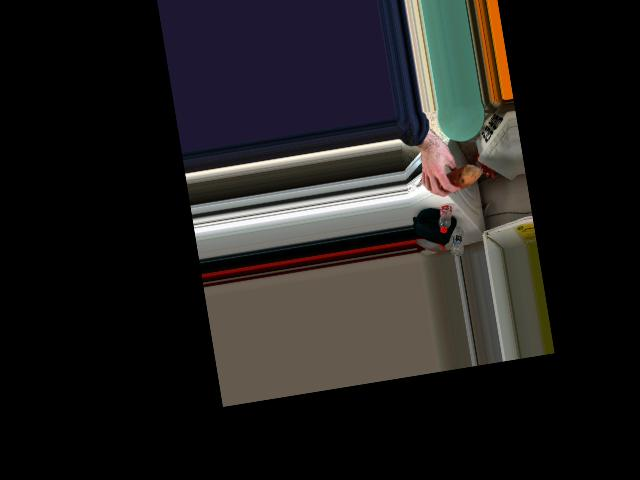sweet_potato: (432, 163, 483, 192)
